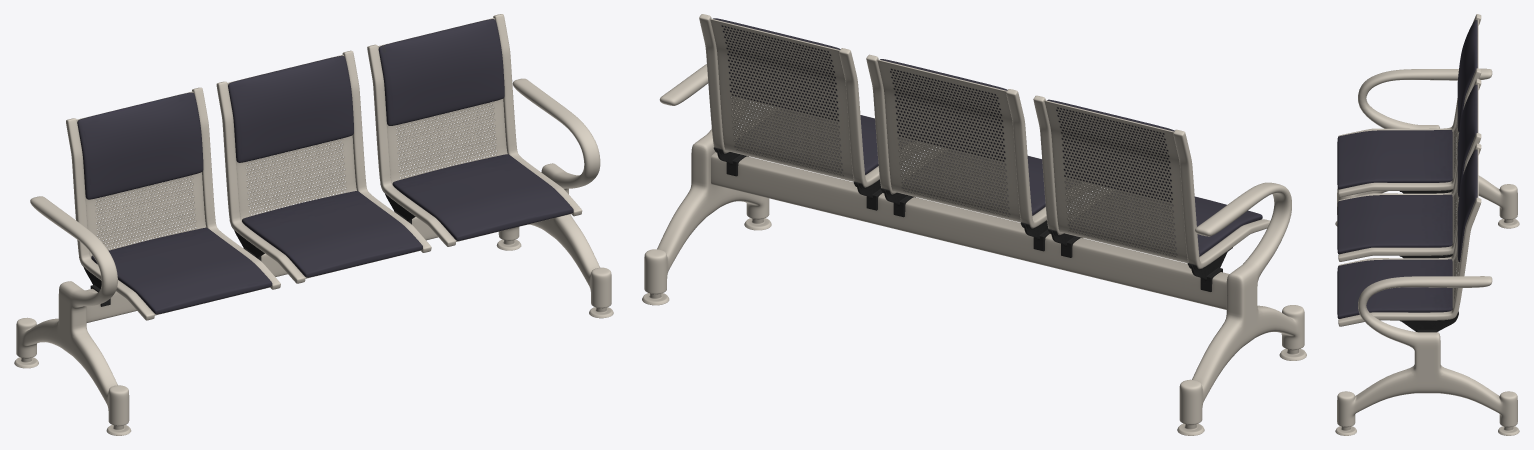
Rendered from bk_waiting_bench.glb.
3 renders of one model, left to right at view 1: azimuth 30°, elevation 25°; view 2: azimuth 150°, elevation 25°; view 3: azimuth 270°, elevation 25°, orthographic. The views are drawn at different scales.
Visible parts, largest first — view 1: Waiting Bench Chair; view 2: Waiting Bench Chair; view 3: Waiting Bench Chair.
Part boxes in pixels (x1,y1,x2,y2): Waiting Bench Chair: [14, 14, 613, 435]; Waiting Bench Chair: [642, 14, 1306, 435]; Waiting Bench Chair: [1335, 14, 1519, 435].
Bounding box in the file's own units: 1.87 × 0.8878 × 0.6722.
2 materials, 2 textured.
